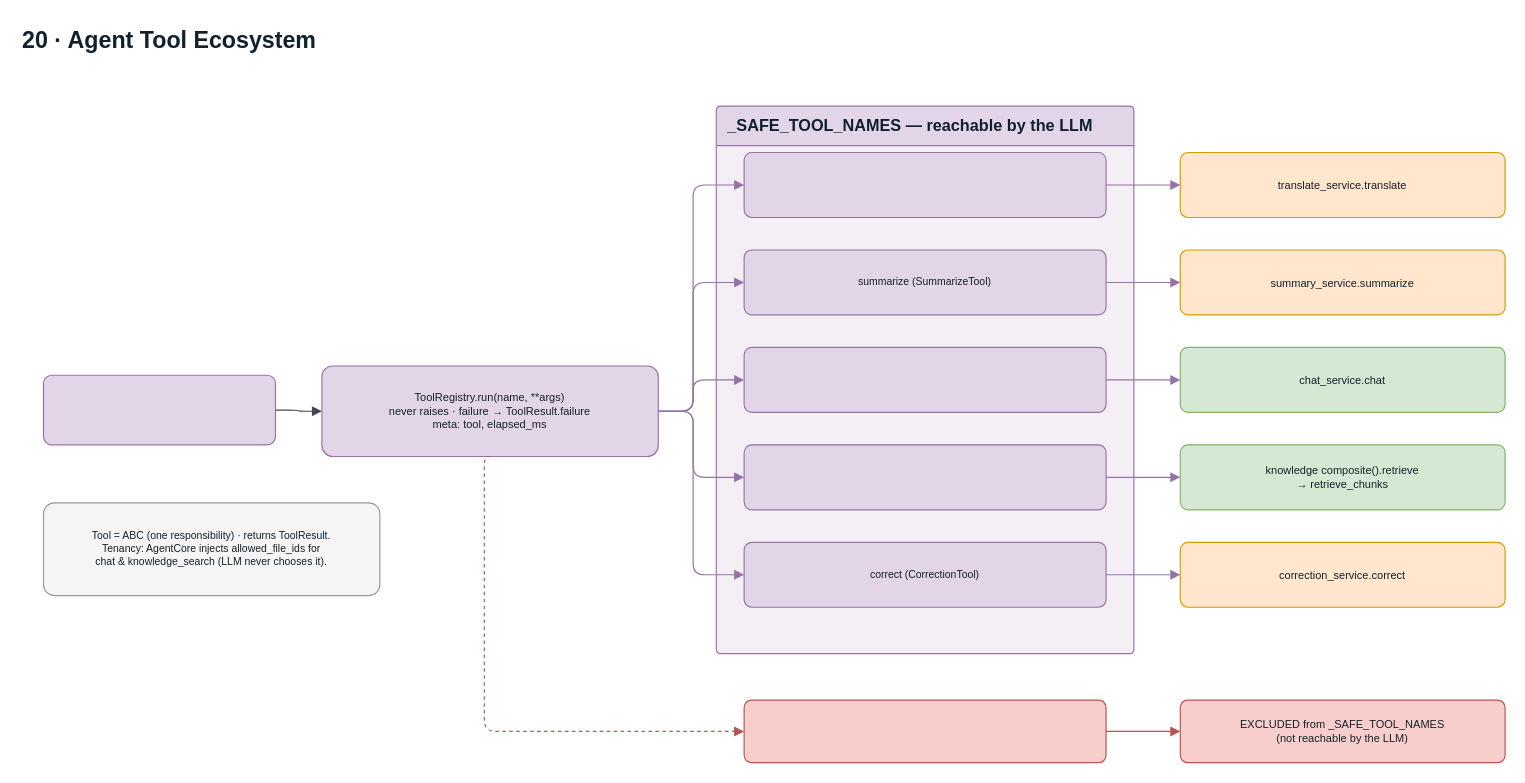
The diagram is 1525 pixels wide and 783 high, and some of its shapes have lost their labels. Here are the shapes that lost their labels. From the top down, the centre of each, then its label:
pixel 924 184: translate (TranslateTool)
pixel 924 379: chat (ChatTool) · tenancy
pixel 159 409: AgentCore
pixel 924 477: knowledge_search (KnowledgeSearchTool) · tenancy
pixel 924 731: ocr (OcrTool) → smart_ocr_service.run_ocr_pipeline
